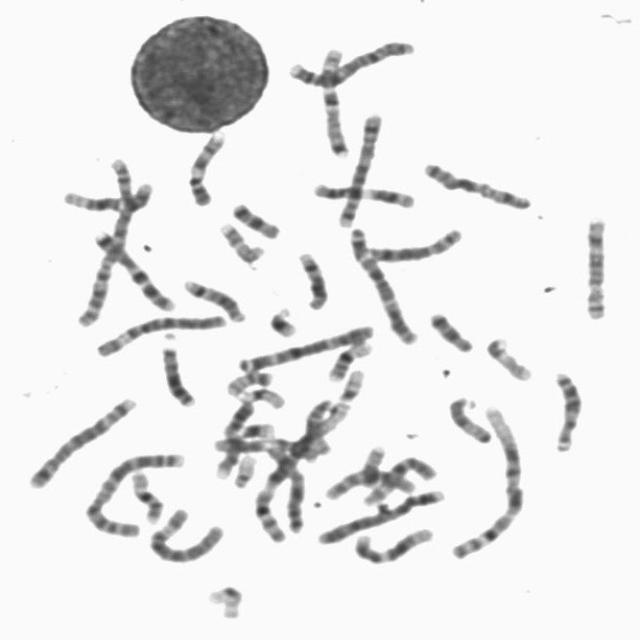A1: (247, 394, 353, 544), (443, 398, 528, 562)
A2: (70, 149, 138, 329), (78, 445, 189, 539)
A3: (342, 220, 420, 345), (231, 317, 378, 373)
B4: (309, 483, 448, 546), (280, 33, 418, 89)
B5: (21, 390, 139, 490), (331, 106, 386, 229)
C10: (356, 450, 441, 506), (320, 463, 420, 501)
C11: (305, 175, 419, 209), (208, 430, 329, 462)
C12: (55, 175, 157, 213), (348, 521, 436, 565)
C6: (88, 307, 228, 360), (142, 500, 228, 564)
C7: (85, 223, 178, 313), (313, 41, 354, 158)
C8: (360, 221, 467, 264), (577, 210, 611, 322)
C9: (208, 393, 258, 480), (180, 125, 228, 207)
D13: (546, 364, 585, 454), (154, 338, 198, 408)
D14: (176, 272, 248, 323), (291, 245, 331, 311)
D15: (442, 390, 495, 444), (299, 392, 335, 460)
E16: (320, 333, 376, 382), (124, 464, 166, 524)
E17: (479, 330, 536, 383), (212, 215, 266, 264)
E18: (422, 305, 476, 354), (224, 196, 283, 240)
F19: (200, 579, 246, 620), (233, 380, 288, 410)
F20: (219, 364, 276, 397), (355, 439, 388, 490)
G21: (262, 300, 301, 339), (233, 416, 278, 440)
G22: (332, 363, 368, 403), (227, 449, 260, 489)
X: (416, 155, 534, 212), (259, 442, 309, 535)
